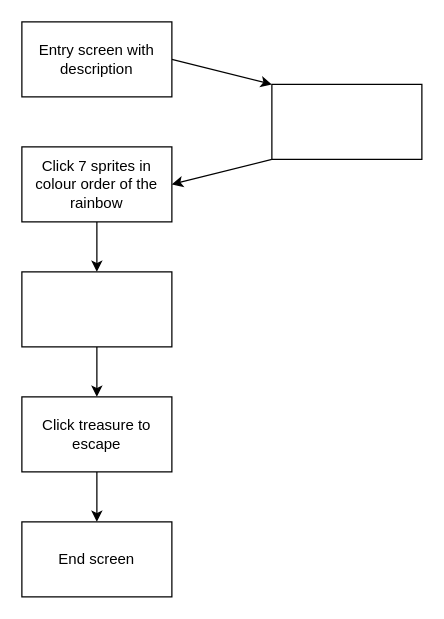
This 444x619 diagram has some shape labels left out. The shapes that lost their labels are listed below. From the top down, each one's box as (x1, y1, x2, y2) in pixels, then its label:
(271, 83, 422, 159): Enter main room with clue "follow the rainbow"
(21, 271, 172, 347): Treasure appears
